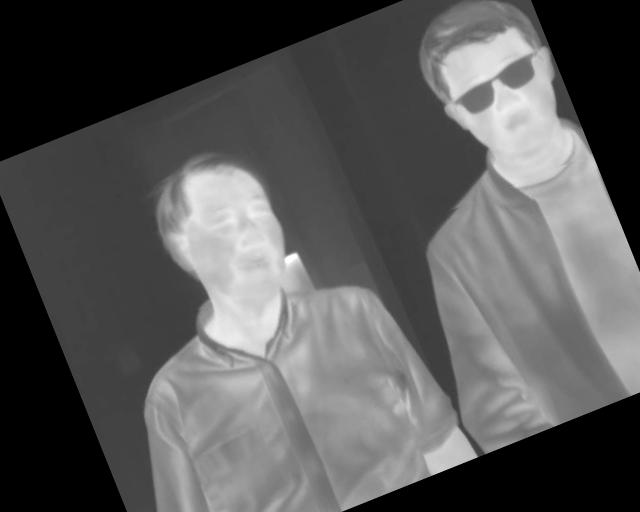face: (136, 133, 308, 330), (401, 1, 583, 181)
